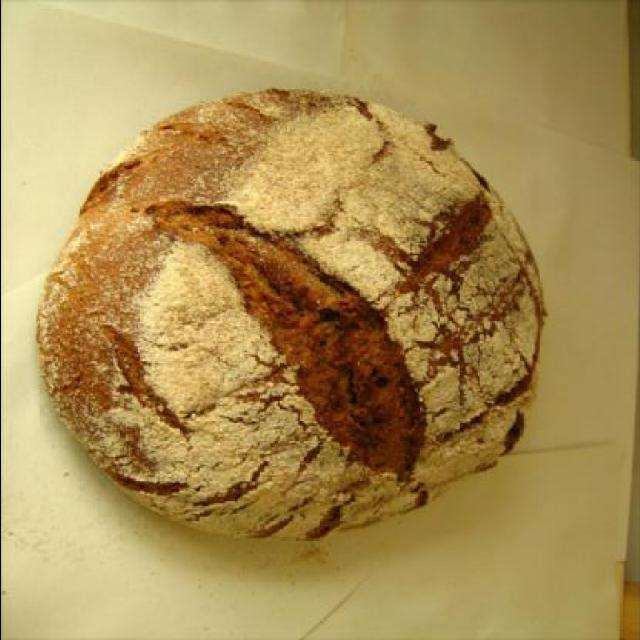Bread: (6, 83, 550, 531)
